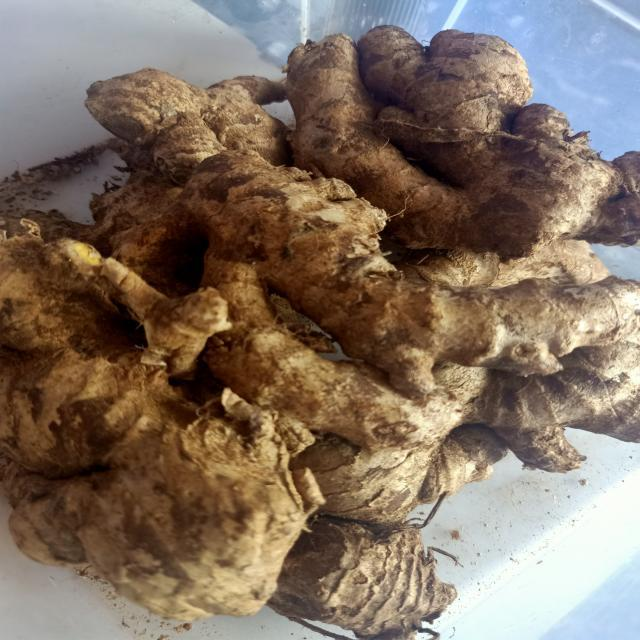Ginger: (117, 150, 640, 397), (0, 235, 315, 622), (287, 25, 640, 257), (84, 67, 289, 184), (267, 517, 457, 640), (66, 241, 231, 376)
